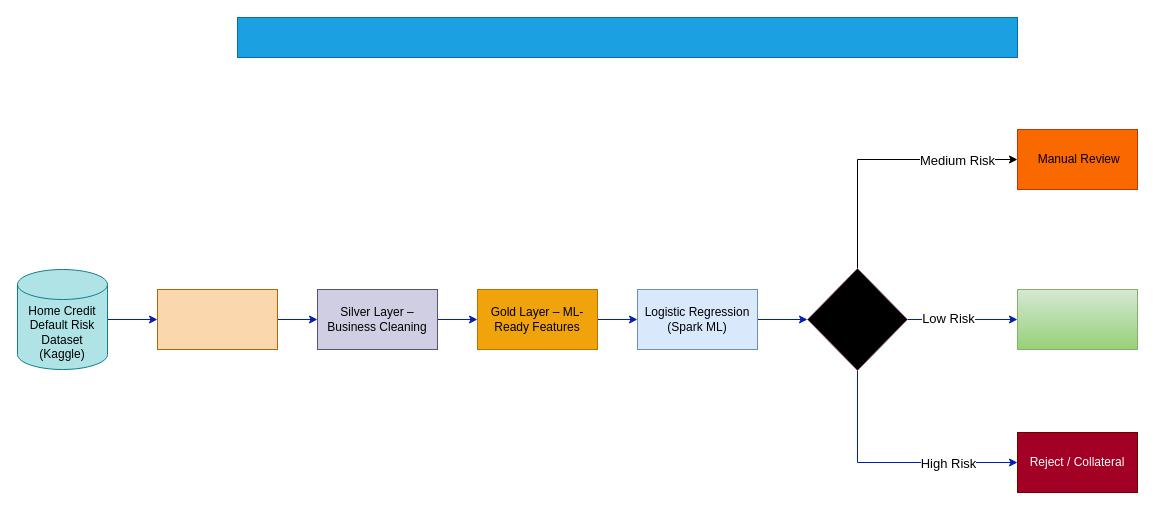
Image size: 1155x510. Some labels were removed from this diagram. The box of each missing label's shape, as (x1, y1, x2, y2) in pixels:
Bronze Layer – Raw Ingestion: (156, 288, 278, 350)
End-to-End AI Loan Default Risk System Architecture: (236, 16, 1018, 58)
Fast Approval: (1016, 288, 1138, 350)
